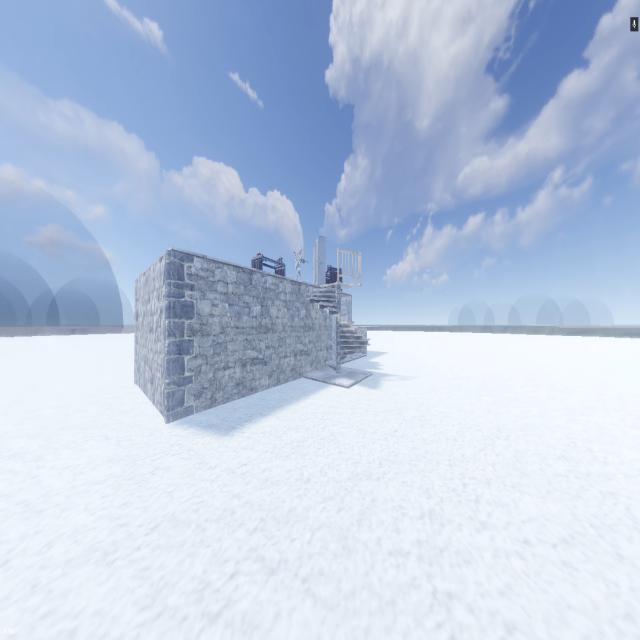Player: (293, 246, 306, 284)
